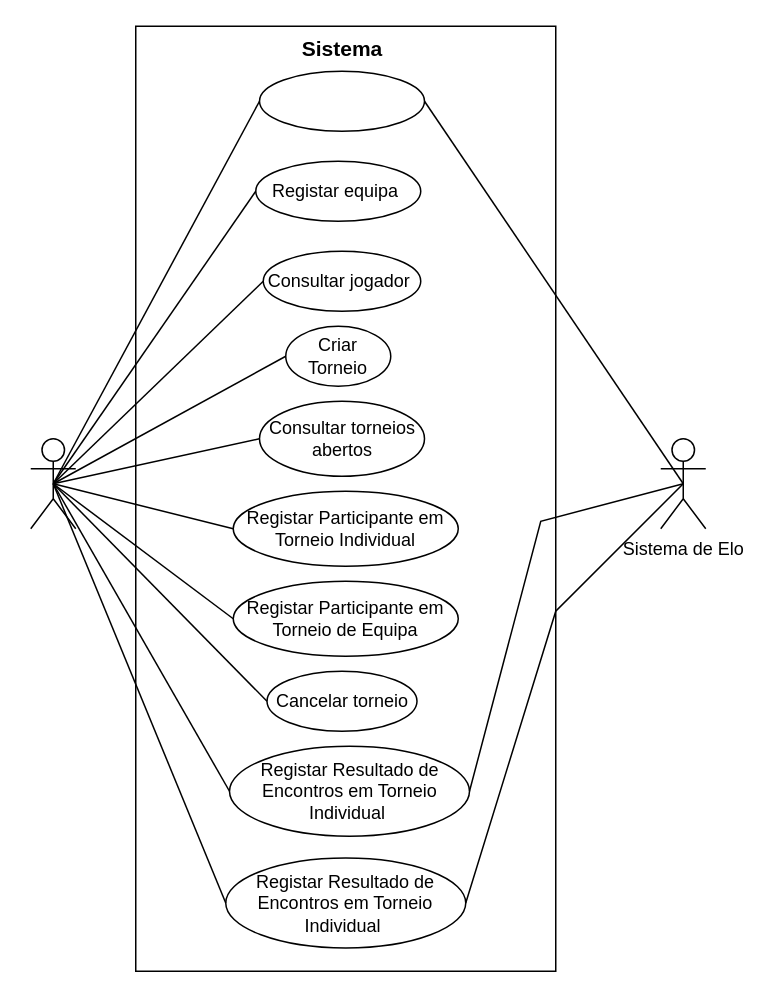
Some shapes in this 770 by 998 pixel diagram are drawn without their labels. The shapes that lost their labels are listed below. From the top down, each one's box as (x1, y1, x2, y2) in pixels, then its label:
(258, 70, 424, 131): Registar jogador individual
(29, 437, 76, 529): Gestor
